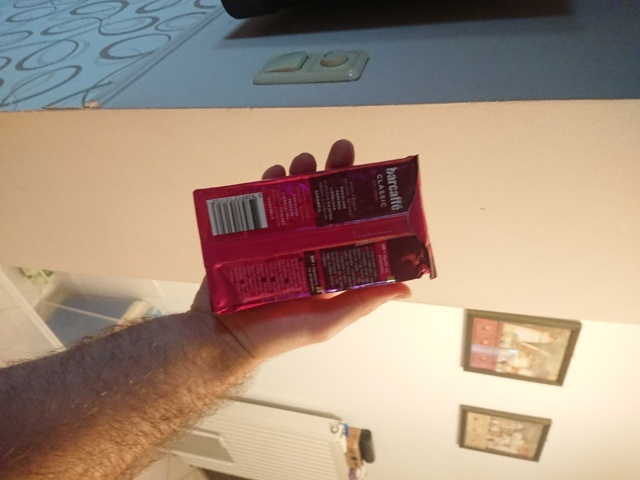Barcaffe Classic Original 225g: (190, 152, 440, 319)
